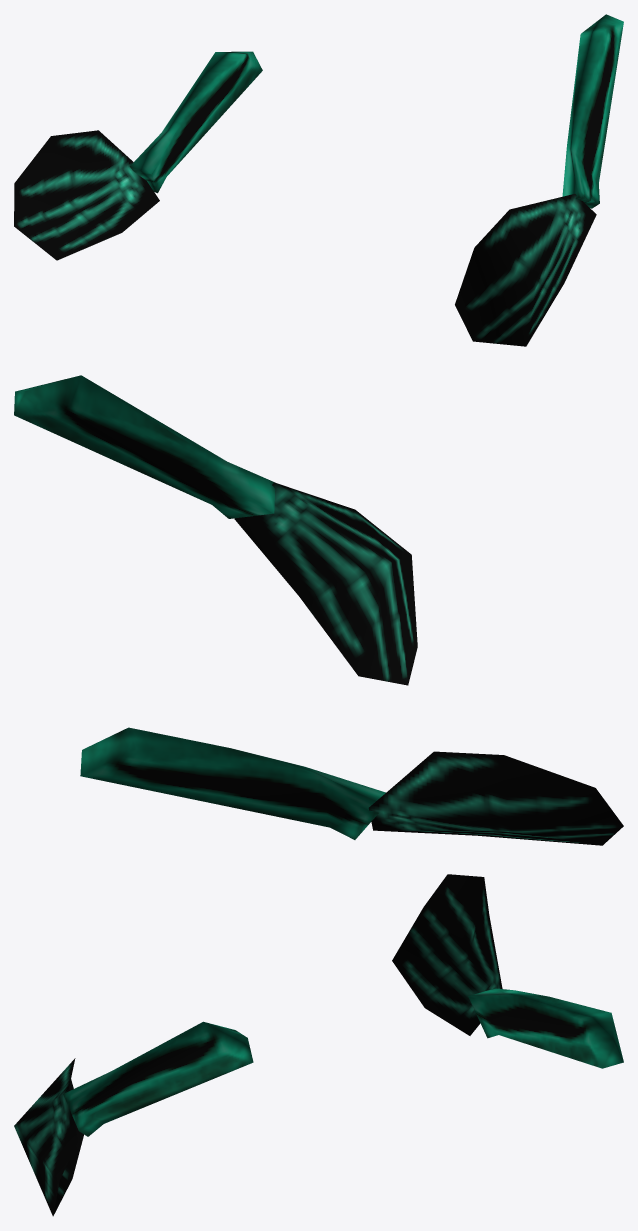
File: VIFS10.obj
3 renders of one model, top to bottom at view 1: azimuth 30°, elevation 25°; view 2: azimuth 150°, elevation 25°; view 3: azimuth 270°, elevation 25°, orthographic. The views are drawn at different scales.
Visible parts, largest first — view 1: VIFS10; view 2: VIFS10; view 3: VIFS10.
Part boxes in pixels (<box>): VIFS10: <box>14,14,623,346</box>; VIFS10: <box>14,375,623,845</box>; VIFS10: <box>14,874,623,1216</box>.
Bounding box in the file's own units: 31.44 × 13.32 × 26.69.
